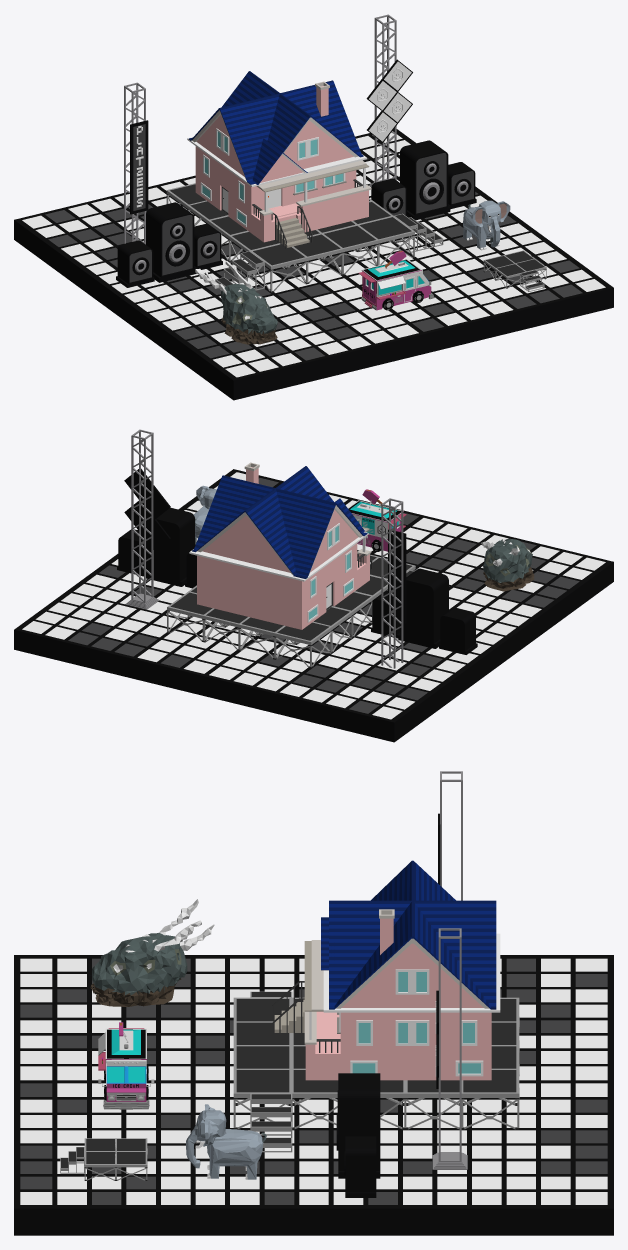
The picture shows the model from 3 angles, top to bottom: view 1: azimuth 30°, elevation 25°; view 2: azimuth 150°, elevation 25°; view 3: azimuth 270°, elevation 25°; orthographic projection. The views are drawn at different scales.
Parts seen in each view (by area): view 1: Cube.008, Cube.313, OBJRANDOM_METEORITE, VEHICLES_ICE_CREAM_TRUCK, ANIMAL_ELEFANTE; view 2: Cube.008, Cube.313, OBJRANDOM_METEORITE, VEHICLES_ICE_CREAM_TRUCK, ANIMAL_ELEFANTE; view 3: Cube.008, Cube.313, OBJRANDOM_METEORITE, VEHICLES_ICE_CREAM_TRUCK, ANIMAL_ELEFANTE.
Boxes of the visible parts, x1,y1,x2,y2 form: Cube.008: (14,14,613,400); Cube.313: (187,71,371,248); OBJRANDOM_METEORITE: (195,261,277,344); VEHICLES_ICE_CREAM_TRUCK: (358,250,434,310); ANIMAL_ELEFANTE: (463,200,510,250); Cube.008: (14,429,613,742); Cube.313: (189,462,372,629); OBJRANDOM_METEORITE: (481,538,534,591); VEHICLES_ICE_CREAM_TRUCK: (348,489,406,551); ANIMAL_ELEFANTE: (193,485,216,544); Cube.008: (14,771,613,1235); Cube.313: (272,860,500,1080); OBJRANDOM_METEORITE: (90,899,214,1006); VEHICLES_ICE_CREAM_TRUCK: (98,1022,154,1109); ANIMAL_ELEFANTE: (186,1104,266,1179).
Size of the model in its own units: 4000 by 1975 by 4000.
Materials: 47 (1 with a texture image).
